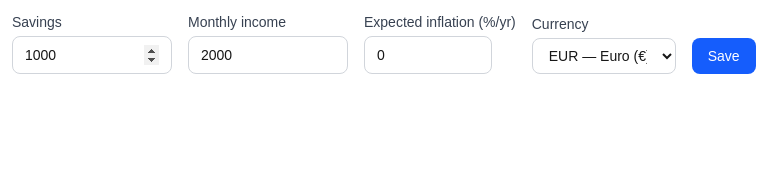
Test: SavingsIncomePanel › shows error message and does NOT show 'Saved ✓' when fetch fails
The image size is (773, 172).
Click the button "Save". click: [724, 56]
box: [692,38,756,74]
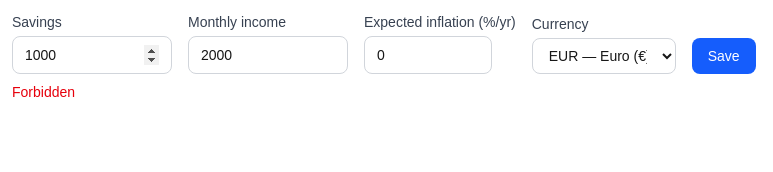
Expected: the message reads "Forbidden", [12,84,75,100]
